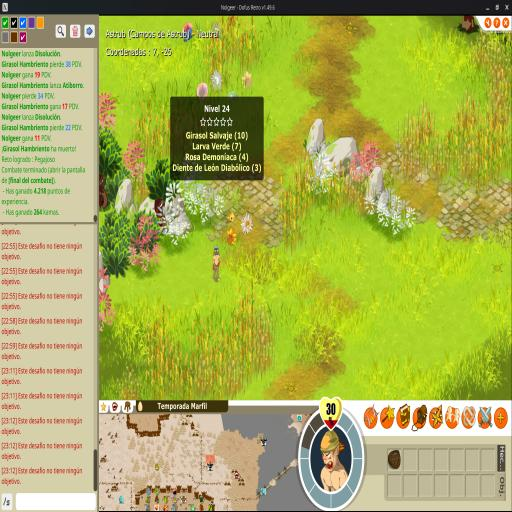Enemigos: (240, 212, 254, 236), (182, 22, 195, 43), (210, 69, 222, 90), (196, 82, 208, 102), (226, 228, 237, 247), (242, 71, 252, 90), (226, 208, 236, 225), (226, 90, 238, 102)
Personaje: (212, 245, 221, 282)
